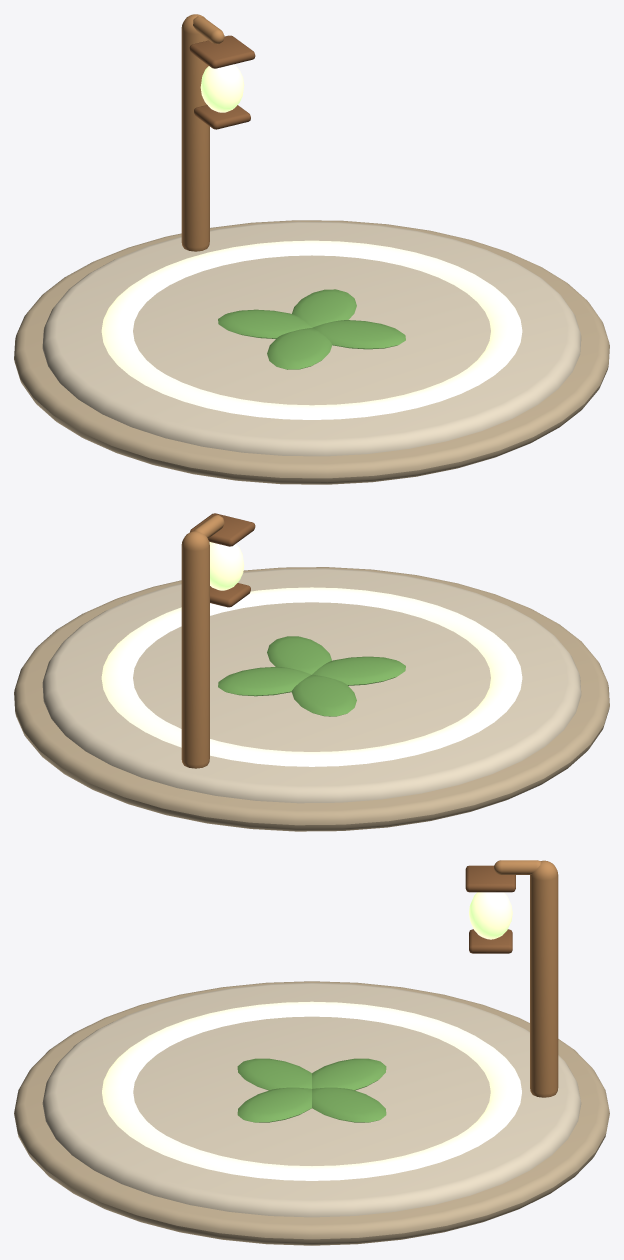
File: checkpoint_pad.glb
3 views of the same model, one above another, from view 1: azimuth 30°, elevation 25°; view 2: azimuth 150°, elevation 25°; view 3: azimuth 270°, elevation 25° (orthographic).
Visible parts, largest first — view 1: CheckpointPad; view 2: CheckpointPad; view 3: CheckpointPad.
Part boxes in pixels (x1=…): CheckpointPad: x1=14, y1=14, x2=609, y2=484; CheckpointPad: x1=14, y1=513, x2=609, y2=831; CheckpointPad: x1=14, y1=860, x2=609, y2=1245.
Bounding box in the file's own units: 1.9 × 0.925 × 1.9.
